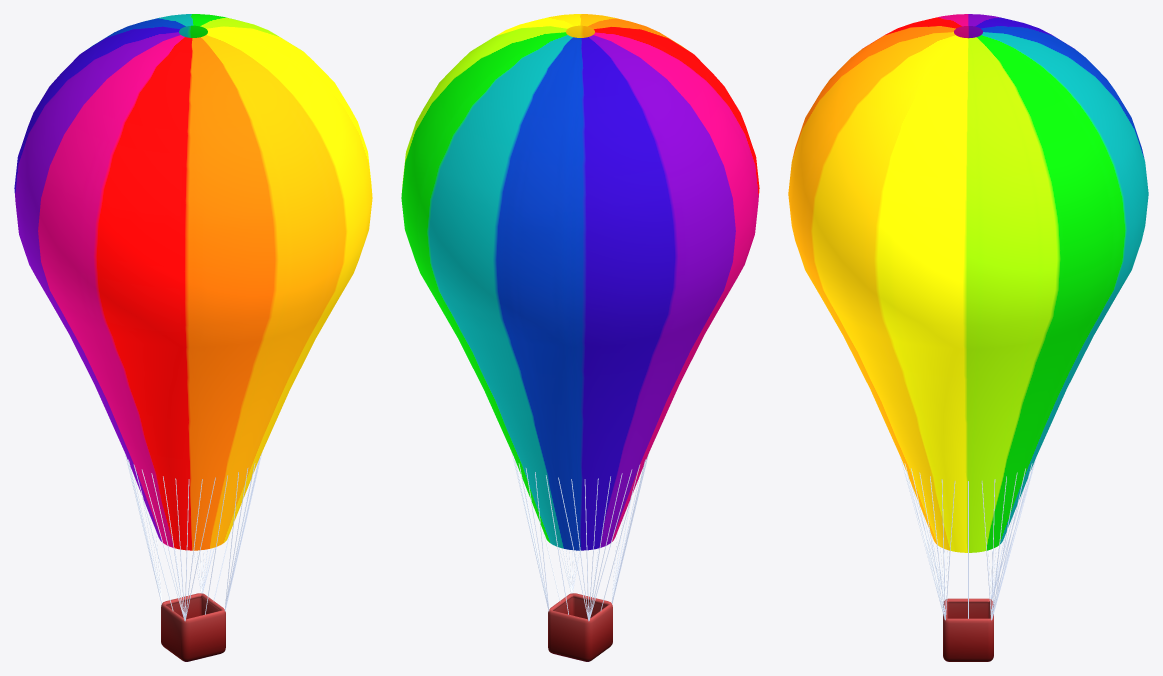
Rendered from grid22-karousel6baloon.glb.
3 views of the same model, side by side, from view 1: azimuth 30°, elevation 25°; view 2: azimuth 150°, elevation 25°; view 3: azimuth 270°, elevation 25° (orthographic).
Parts seen in each view (by area): view 1: Cube.014_52; view 2: Cube.014_52; view 3: Cube.014_52.
Boxes of the visible parts, <box> form: Cube.014_52: <box>14,14,372,661</box>; Cube.014_52: <box>401,14,759,661</box>; Cube.014_52: <box>788,14,1148,661</box>.
Bounding box in the file's own units: 1.99 × 3.78 × 1.99.
1 material, 1 textured.
